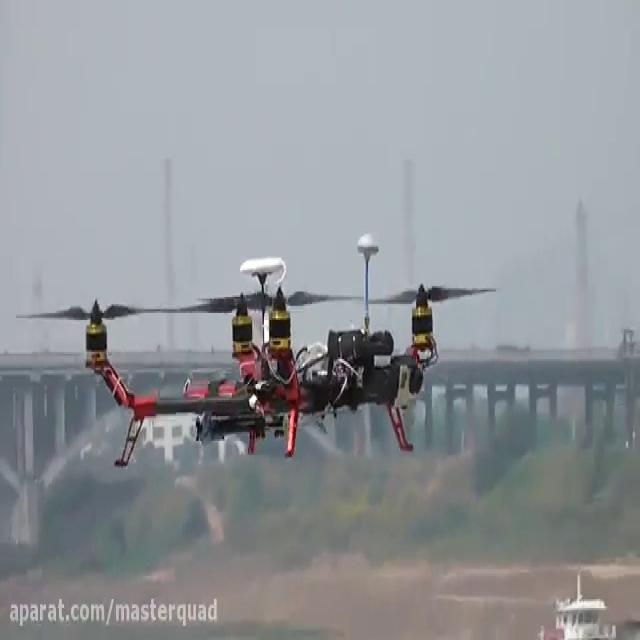drone: (15, 228, 499, 474)
